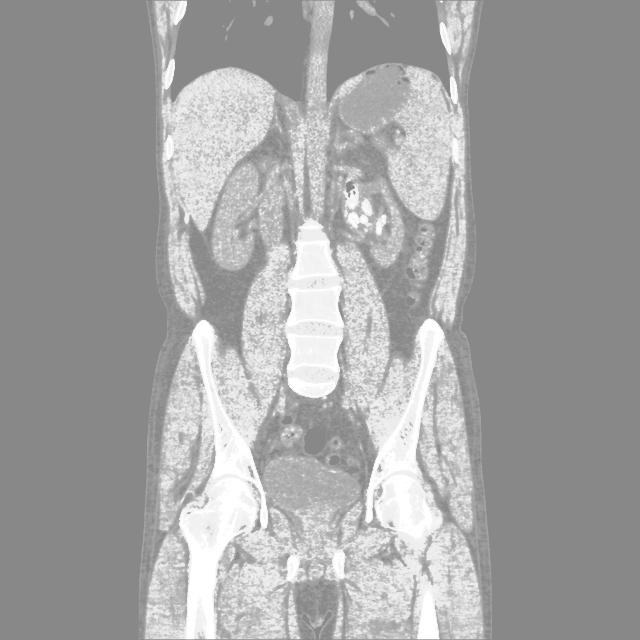STONE: (161, 132, 483, 384)
